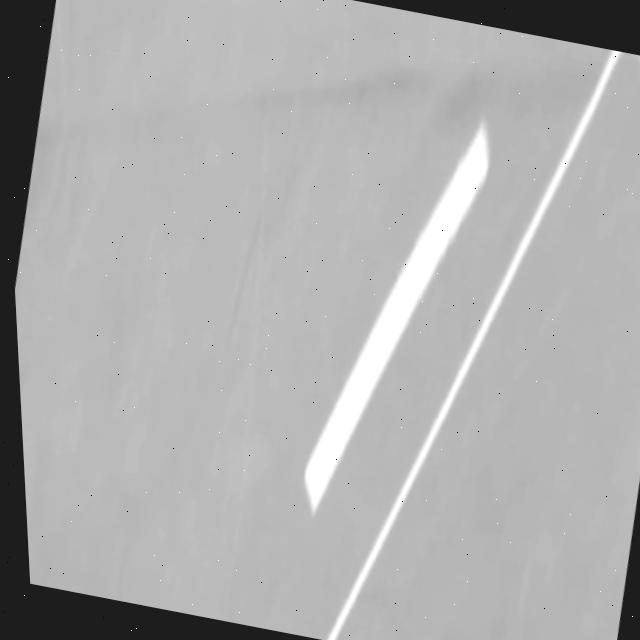center: (305, 124, 489, 512)
